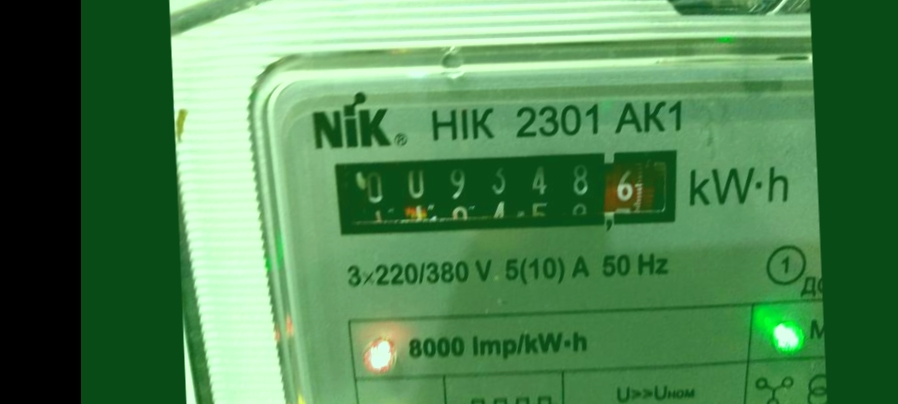0: (404, 164, 426, 201), (363, 168, 384, 204)
3: (486, 162, 509, 195)
4: (526, 160, 548, 198)
6: (613, 166, 636, 201)
8: (569, 160, 590, 195)
9: (447, 164, 466, 198)
screen: (310, 133, 699, 251)
